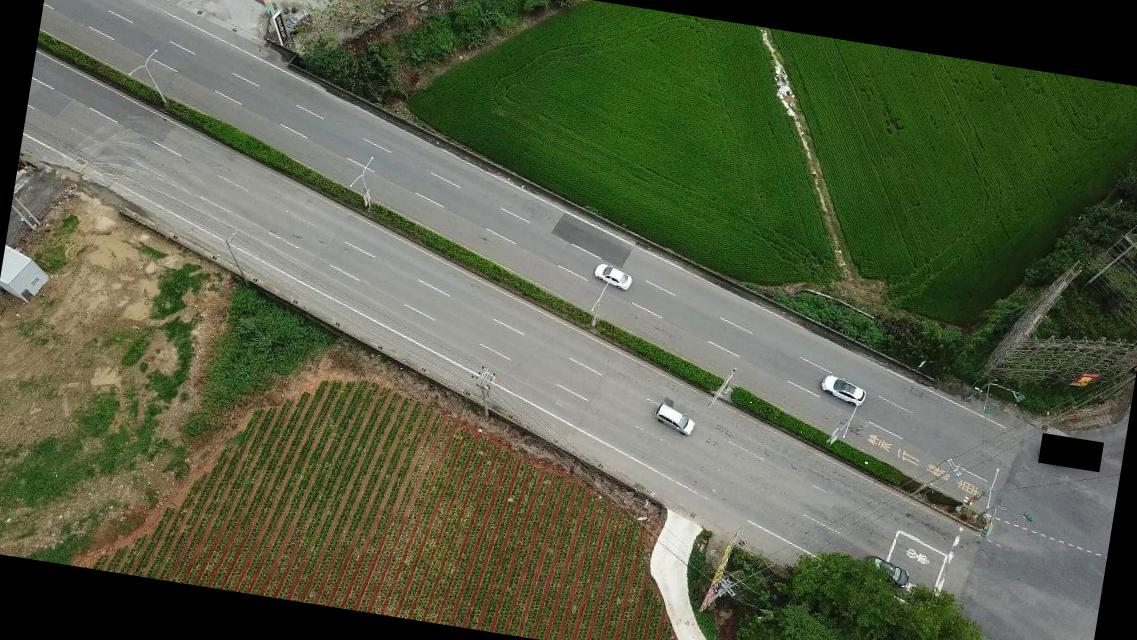vehicle: (650, 402, 699, 438), (861, 552, 911, 587), (822, 370, 867, 408), (590, 259, 632, 291)
